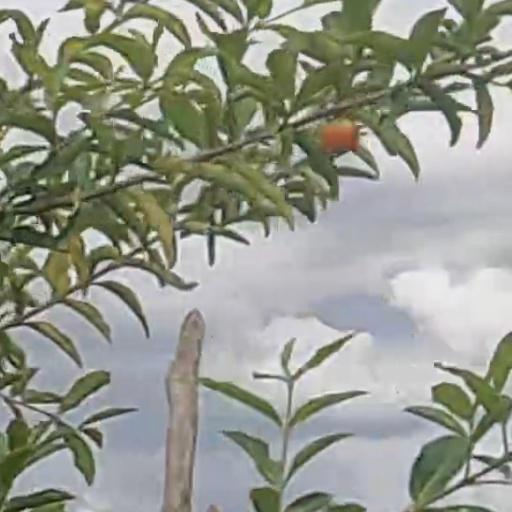acerola_vermelha: (323, 120, 360, 149)
